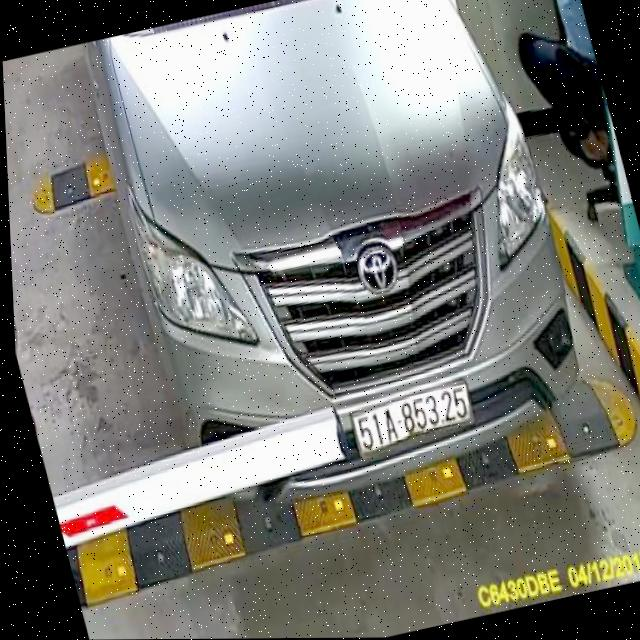car: (66, 0, 624, 537)
plate: (343, 378, 485, 461)
